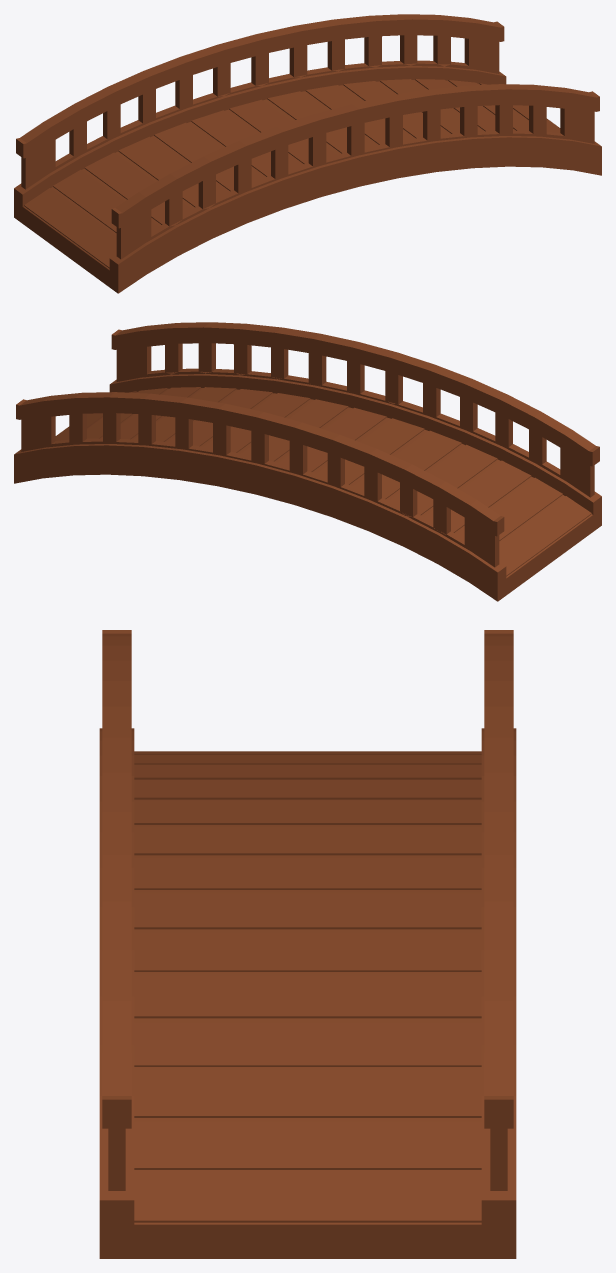
Rendered from Bridge_new.fbx.
3 renders of one model, top to bottom at view 1: azimuth 30°, elevation 25°; view 2: azimuth 150°, elevation 25°; view 3: azimuth 270°, elevation 25°, orthographic. The views are drawn at different scales.
Visible parts, largest first — view 1: Cube.001, Cube.002; view 2: Cube.001, Cube.002; view 3: Cube.001, Cube.002.
Part boxes in pixels (<box>): Cube.001: <box>14,60,601,293</box>; Cube.002: <box>16,14,599,259</box>; Cube.001: <box>14,368,601,601</box>; Cube.002: <box>16,322,599,567</box>; Cube.001: <box>99,728,516,1258</box>; Cube.002: <box>102,630,513,1190</box>.
Bounding box in the file's own units: 841 × 208 × 314.
